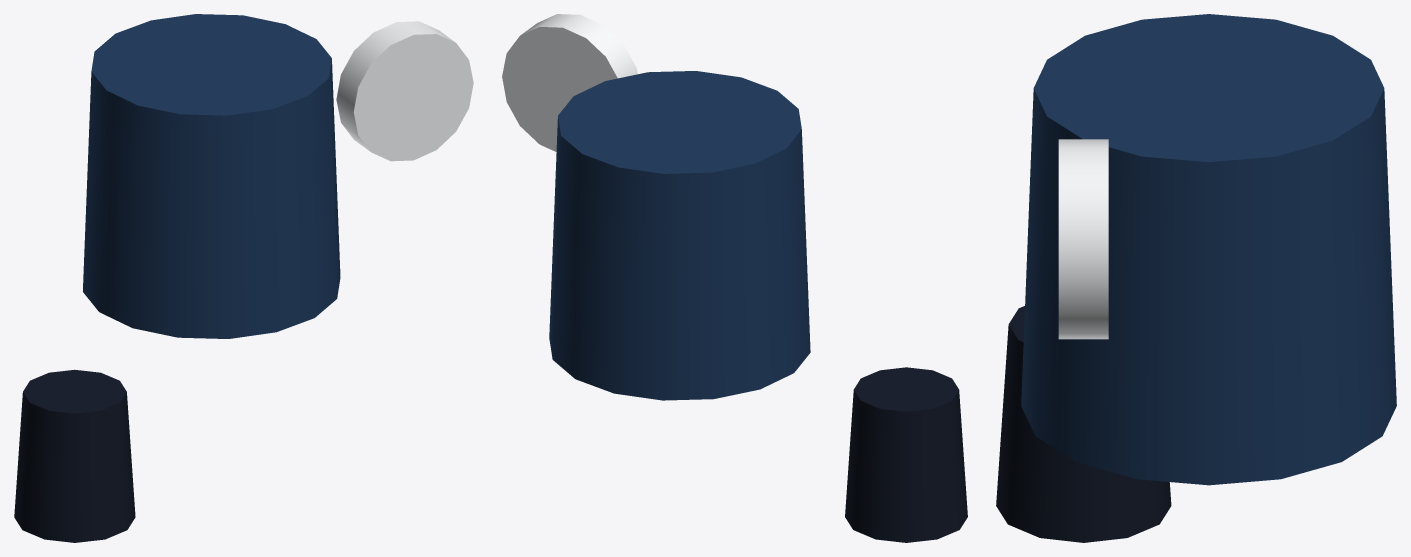
File: parametric-source.glb
The picture shows the model from 3 angles, left to right: view 1: azimuth 30°, elevation 25°; view 2: azimuth 150°, elevation 25°; view 3: azimuth 270°, elevation 25°; orthographic projection. The views are drawn at different scales.
Visible parts, largest first — view 1: openclinxr.equipment.blood_pressure_cuff_equipment.cuff, openclinxr.equipment.blood_pressure_cuff_equipment.bulb, openclinxr.equipment.blood_pressure_cuff_equipment.gauge; view 2: openclinxr.equipment.blood_pressure_cuff_equipment.cuff, openclinxr.equipment.blood_pressure_cuff_equipment.bulb, openclinxr.equipment.blood_pressure_cuff_equipment.gauge; view 3: openclinxr.equipment.blood_pressure_cuff_equipment.cuff, openclinxr.equipment.blood_pressure_cuff_equipment.bulb, openclinxr.equipment.blood_pressure_cuff_equipment.gauge.
Part boxes in pixels (left/top/right/bottom): openclinxr.equipment.blood_pressure_cuff_equipment.cuff: left=83, top=14, right=340, bottom=338; openclinxr.equipment.blood_pressure_cuff_equipment.bulb: left=14, top=369, right=135, bottom=542; openclinxr.equipment.blood_pressure_cuff_equipment.gauge: left=336, top=21, right=473, bottom=161; openclinxr.equipment.blood_pressure_cuff_equipment.cuff: left=549, top=71, right=810, bottom=400; openclinxr.equipment.blood_pressure_cuff_equipment.bulb: left=845, top=367, right=967, bottom=542; openclinxr.equipment.blood_pressure_cuff_equipment.gauge: left=502, top=14, right=637, bottom=151; openclinxr.equipment.blood_pressure_cuff_equipment.cuff: left=1021, top=14, right=1396, bottom=485; openclinxr.equipment.blood_pressure_cuff_equipment.bulb: left=996, top=306, right=1171, bottom=542; openclinxr.equipment.blood_pressure_cuff_equipment.gauge: left=1058, top=139, right=1108, bottom=339.
Size of the model in its own units: 0.295 by 0.26 by 0.16.
